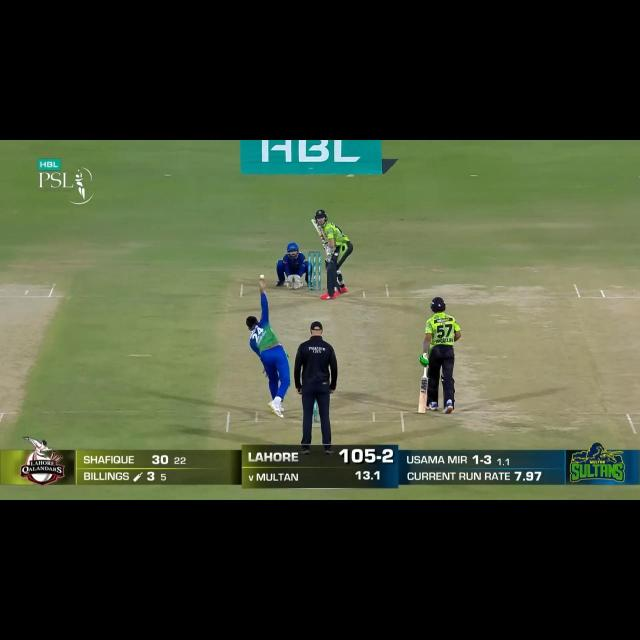bat: (308, 217, 327, 243), (417, 379, 429, 416)
toe: (307, 216, 319, 227), (416, 408, 428, 415)
